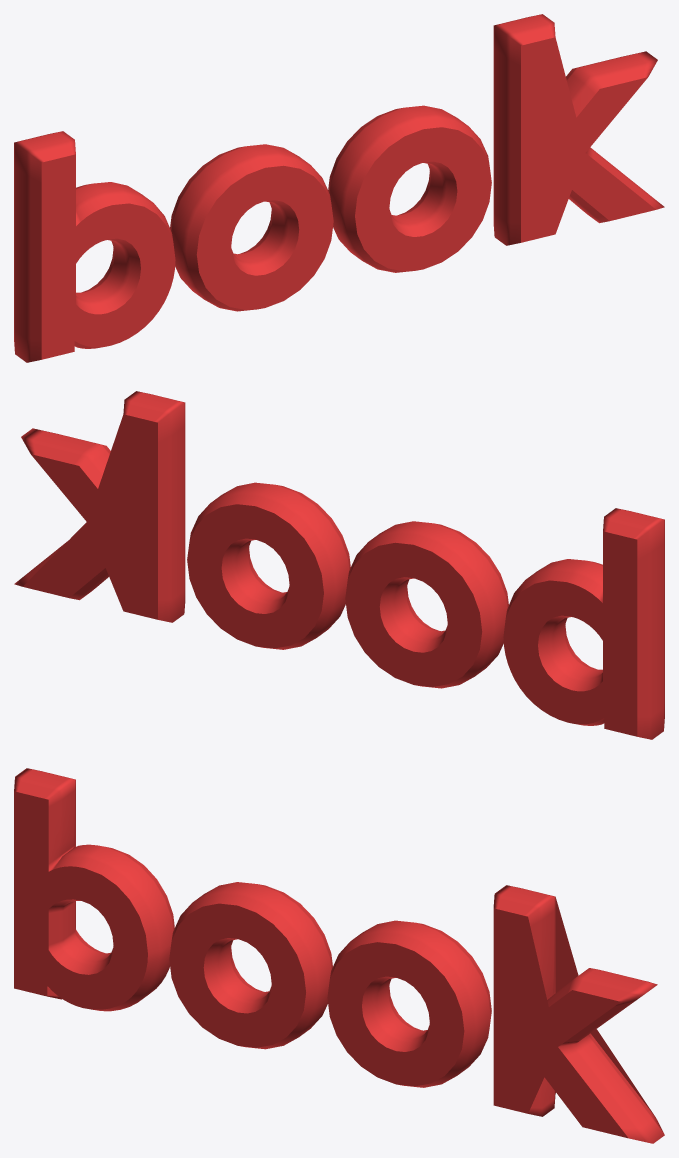
The model's file is book.fbx.
3 views of the same model, one above another, from view 1: azimuth 30°, elevation 25°; view 2: azimuth 150°, elevation 25°; view 3: azimuth 330°, elevation 25° (orthographic).
Visible parts, largest first — view 1: bevelPolygon1, bevelPolygon4, bevelPolygon3, bevelPolygon2; view 2: bevelPolygon1, bevelPolygon4, bevelPolygon3, bevelPolygon2; view 3: bevelPolygon4, bevelPolygon1, bevelPolygon3, bevelPolygon2.
Boxes of the visible parts, box(x1,y1,x2,y2) form: bevelPolygon1: box(14, 131, 175, 362); bevelPolygon4: box(493, 14, 664, 245); bevelPolygon3: box(328, 105, 491, 272); bevelPolygon2: box(170, 144, 333, 311); bevelPolygon1: box(503, 508, 664, 739); bevelPolygon4: box(14, 391, 185, 622); bevelPolygon3: box(187, 482, 350, 649); bevelPolygon2: box(345, 521, 508, 688); bevelPolygon4: box(493, 885, 664, 1143); bevelPolygon1: box(14, 768, 174, 1011); bevelPolygon3: box(327, 920, 491, 1087); bevelPolygon2: box(169, 882, 332, 1049).
Bounding box in the file's own units: 9.37 × 3.01 × 0.7.
